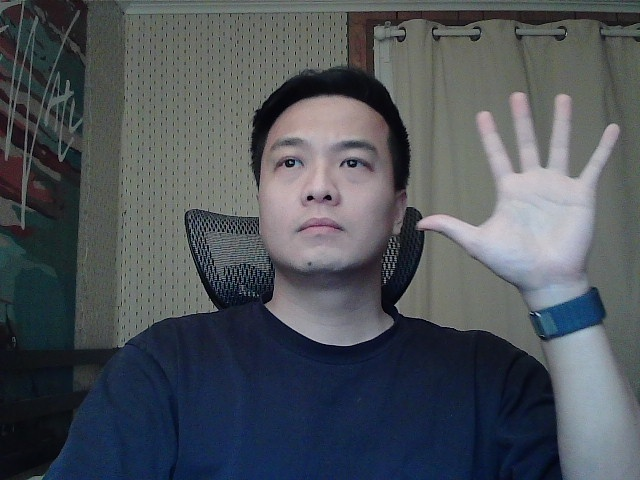Hello: (408, 89, 638, 309)
